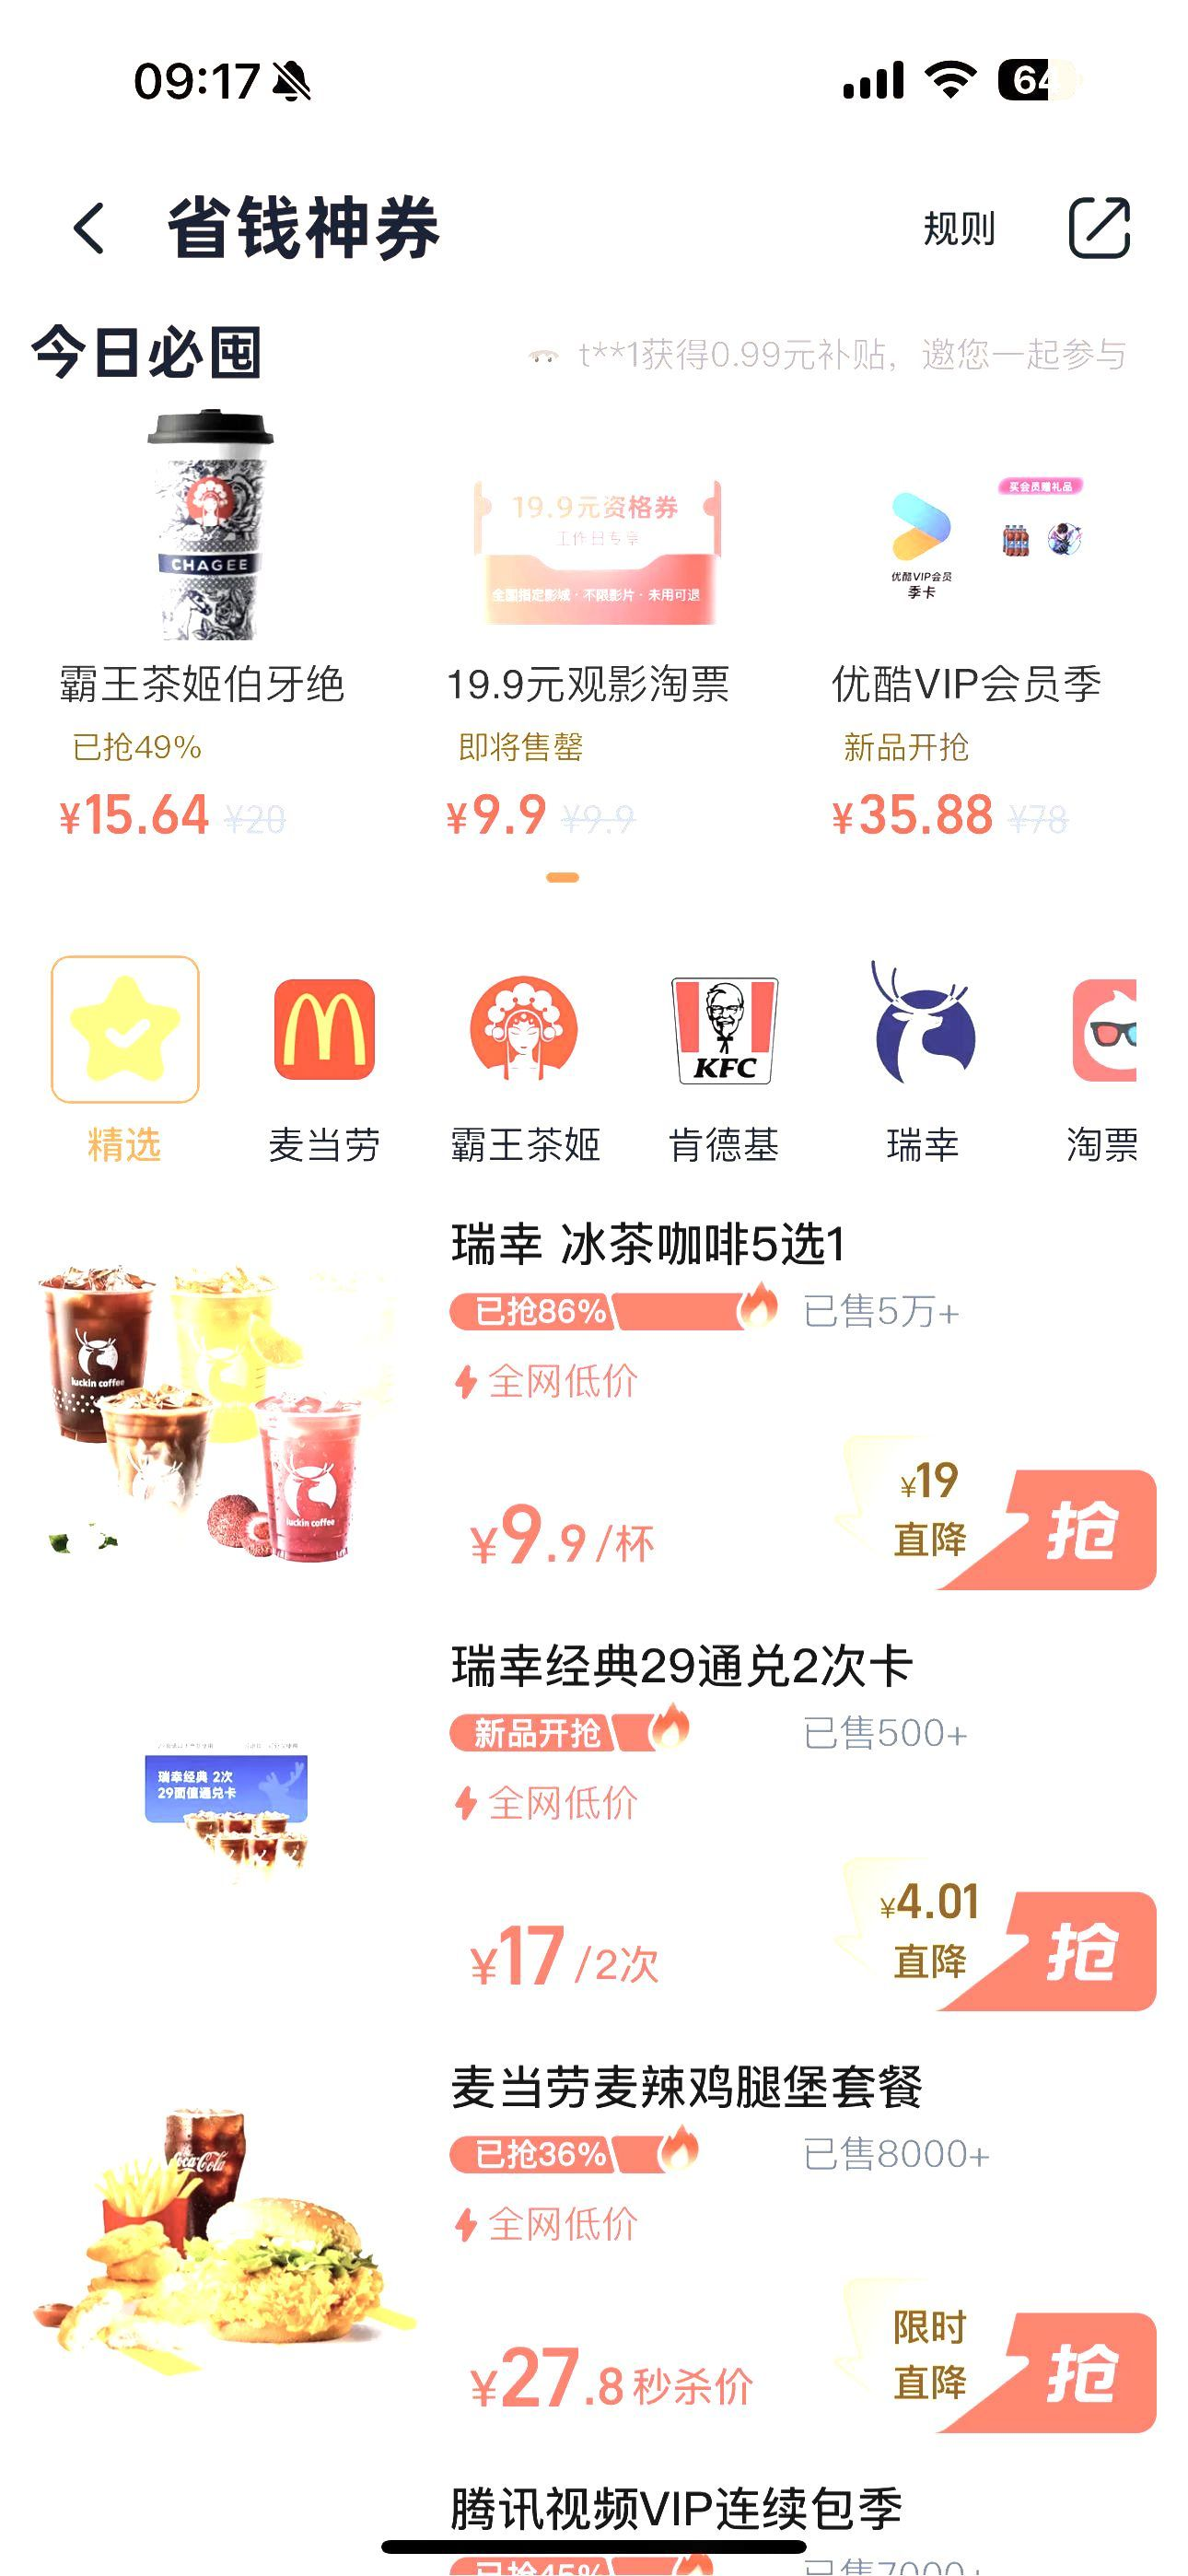item: (5, 1178, 1181, 1620), (16, 2037, 1183, 2471), (12, 1625, 1175, 2044)
op_bar: (5, 171, 1170, 319)
seckill: (8, 330, 1175, 889)
